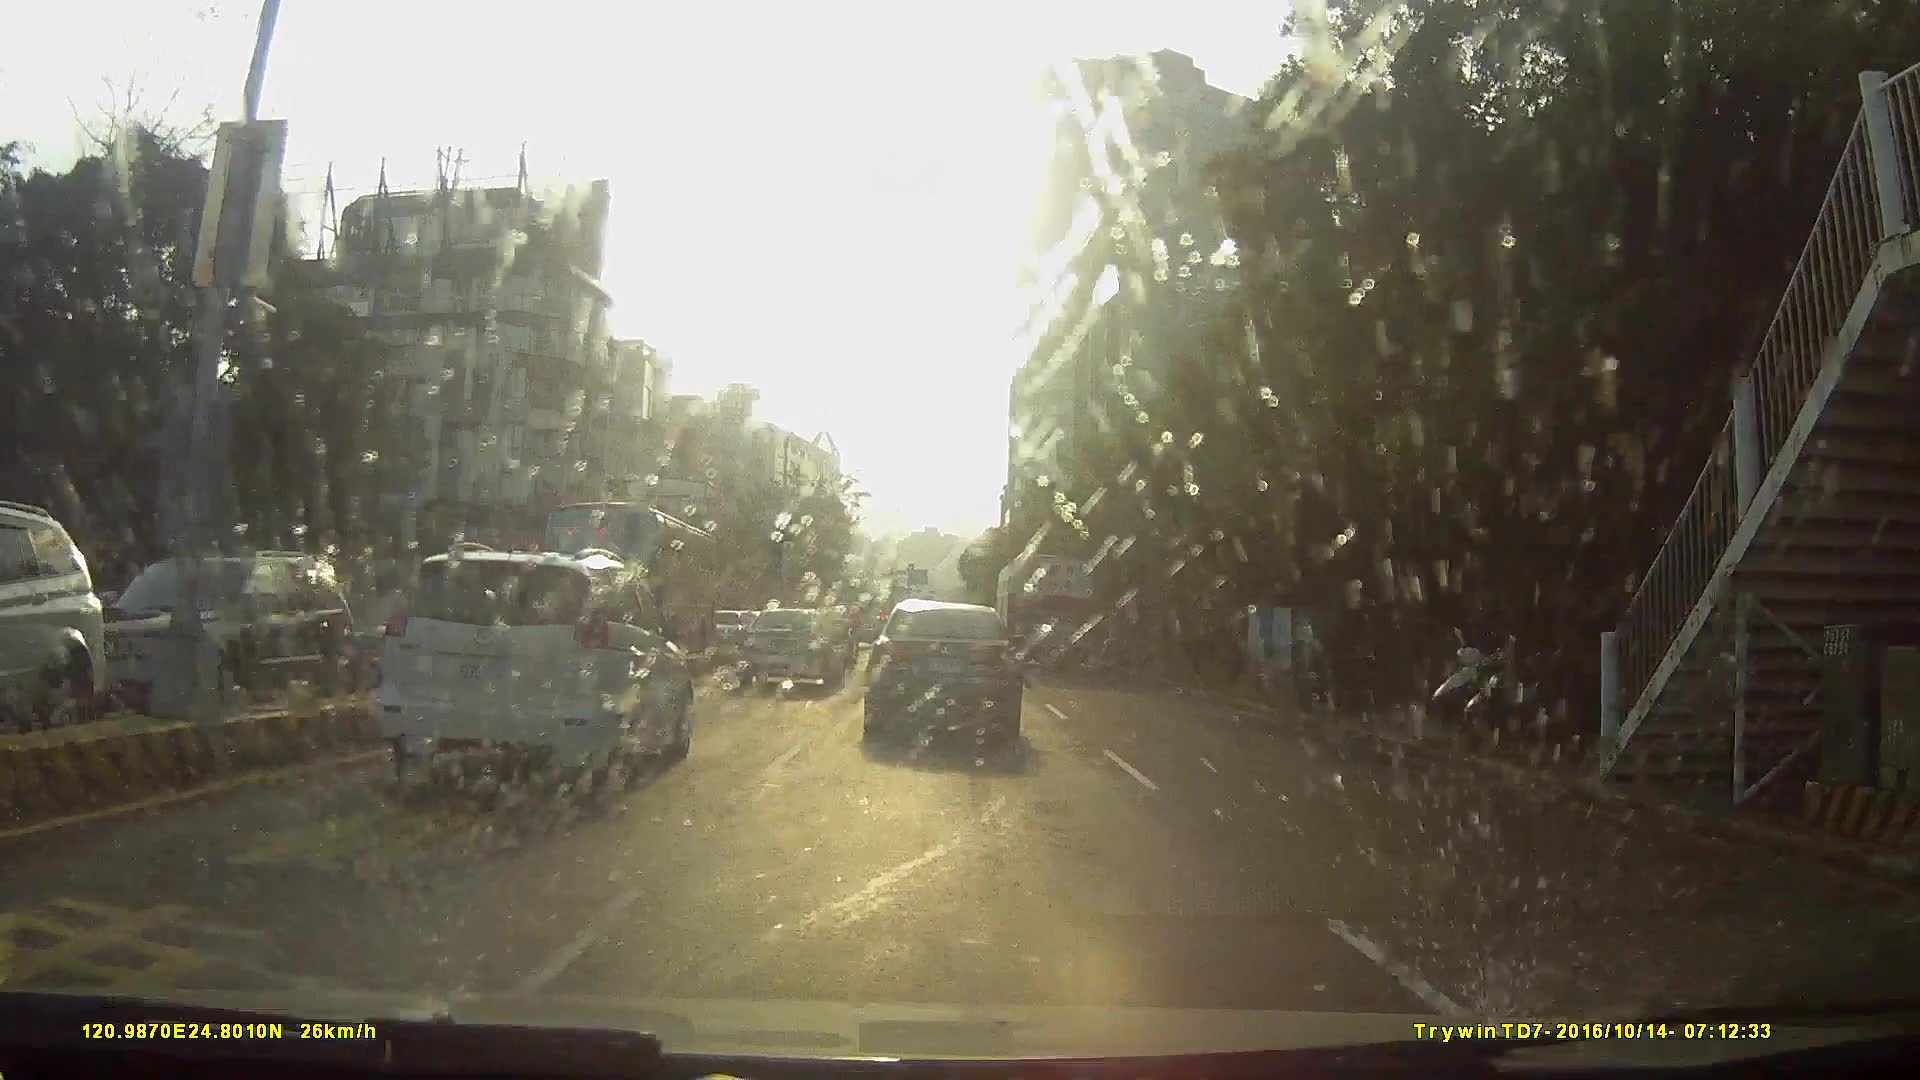vehicle: (251, 556, 684, 868), (378, 541, 694, 793), (520, 496, 724, 657), (862, 592, 1025, 758), (996, 555, 1100, 680), (735, 607, 844, 691), (866, 638, 915, 687)
